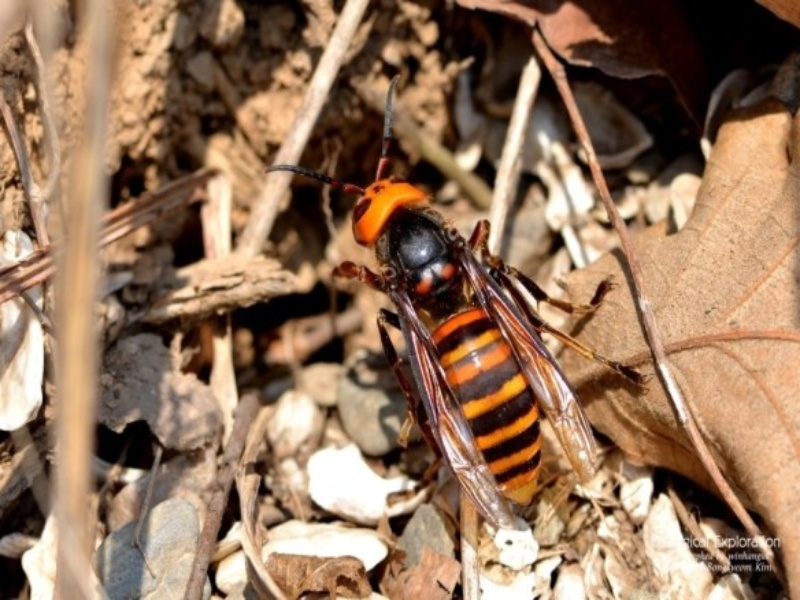asian_giant_hornet: (270, 75, 611, 522)
